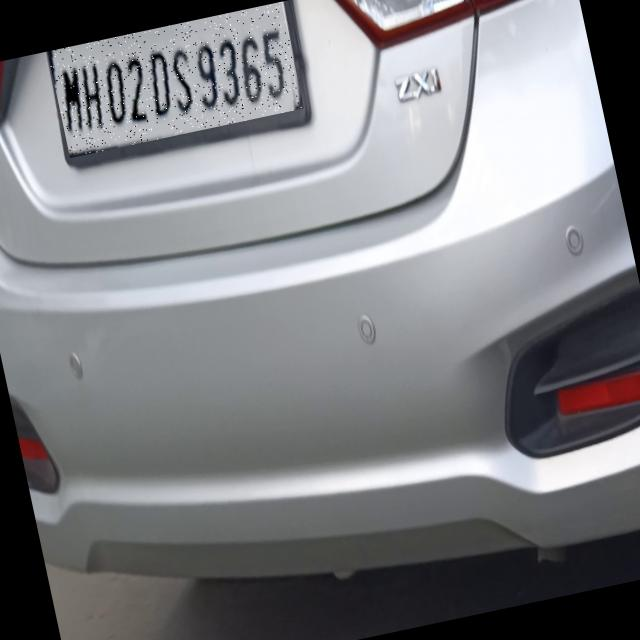Plate: (49, 3, 305, 159)
